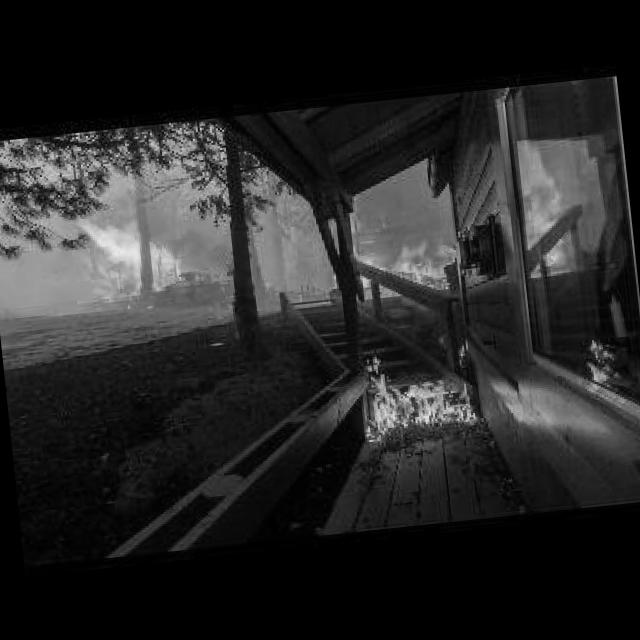fire: (322, 188, 454, 298), (64, 195, 182, 308), (356, 341, 476, 440)
